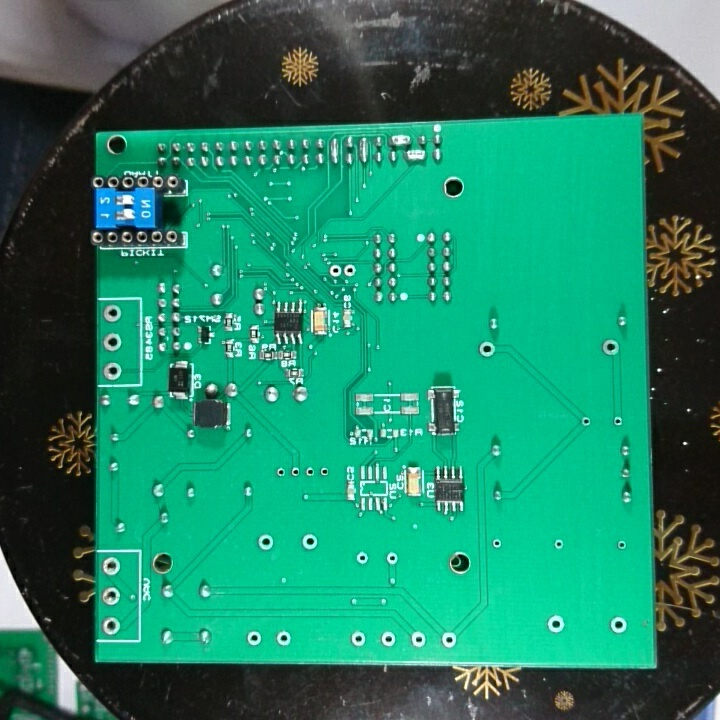F: (99, 613, 123, 638), (101, 358, 125, 382), (299, 529, 321, 555), (100, 583, 123, 607), (101, 329, 124, 353), (100, 555, 123, 578), (101, 302, 123, 326), (607, 615, 630, 636), (545, 613, 566, 636), (600, 336, 621, 358), (348, 628, 368, 651), (254, 532, 277, 552), (476, 339, 498, 359), (439, 629, 459, 651), (409, 628, 428, 651), (245, 627, 264, 650), (273, 629, 292, 649), (382, 549, 401, 569), (379, 629, 397, 649), (354, 548, 371, 568), (342, 261, 359, 280), (577, 413, 594, 430), (327, 262, 344, 278), (274, 463, 288, 482), (608, 414, 625, 429), (551, 535, 566, 552), (287, 463, 302, 480), (302, 463, 316, 481), (614, 537, 628, 553), (317, 463, 331, 479), (490, 536, 502, 552)
P: (403, 146, 429, 165), (327, 135, 342, 167), (355, 134, 370, 165), (385, 132, 413, 147)
